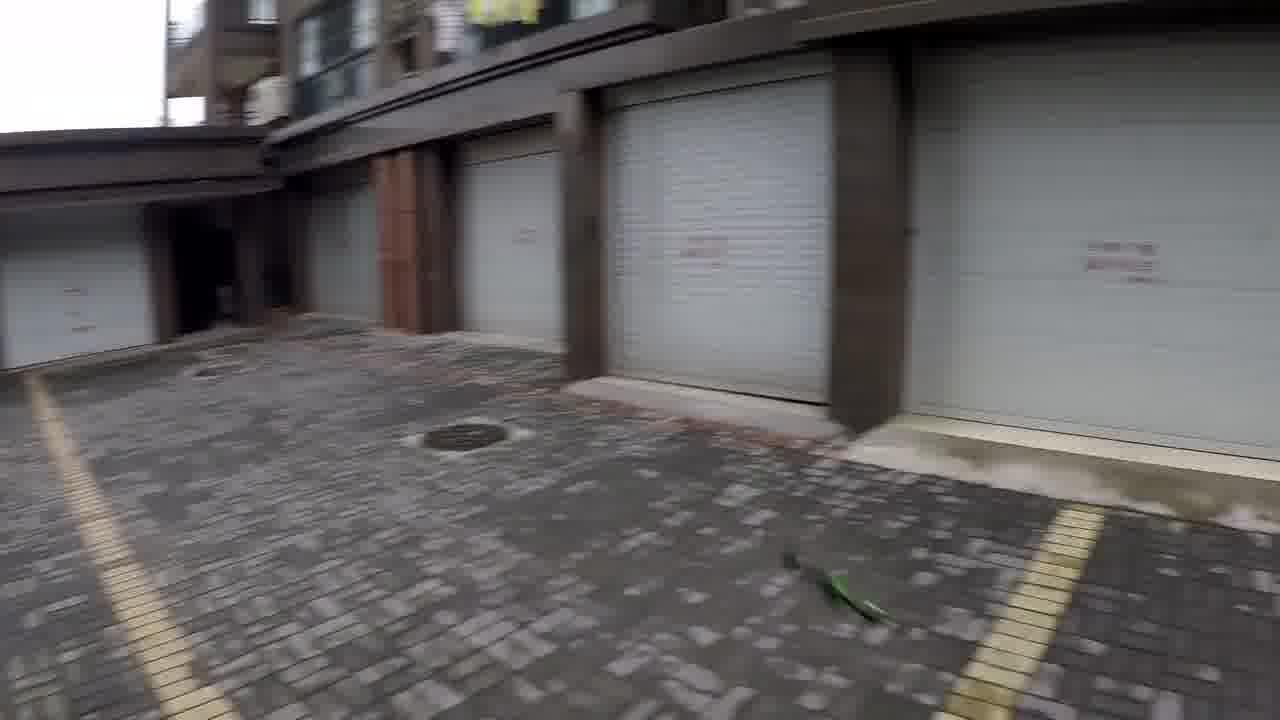drone: (778, 537, 891, 628)
